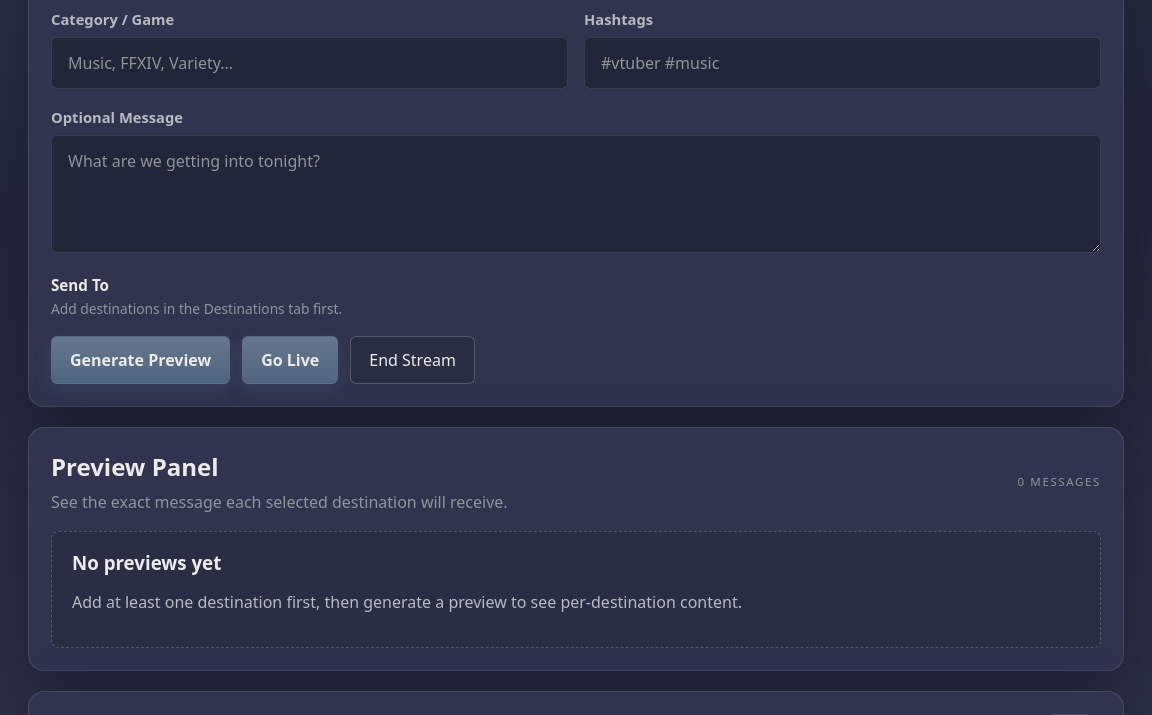
App › shows a preview error when the backend request fails
The width and height of the screenshot is (1152, 715).
(page scrolled)
Click the button "Generate Preview". click: (141, 360)
box: [51,336,230,384]
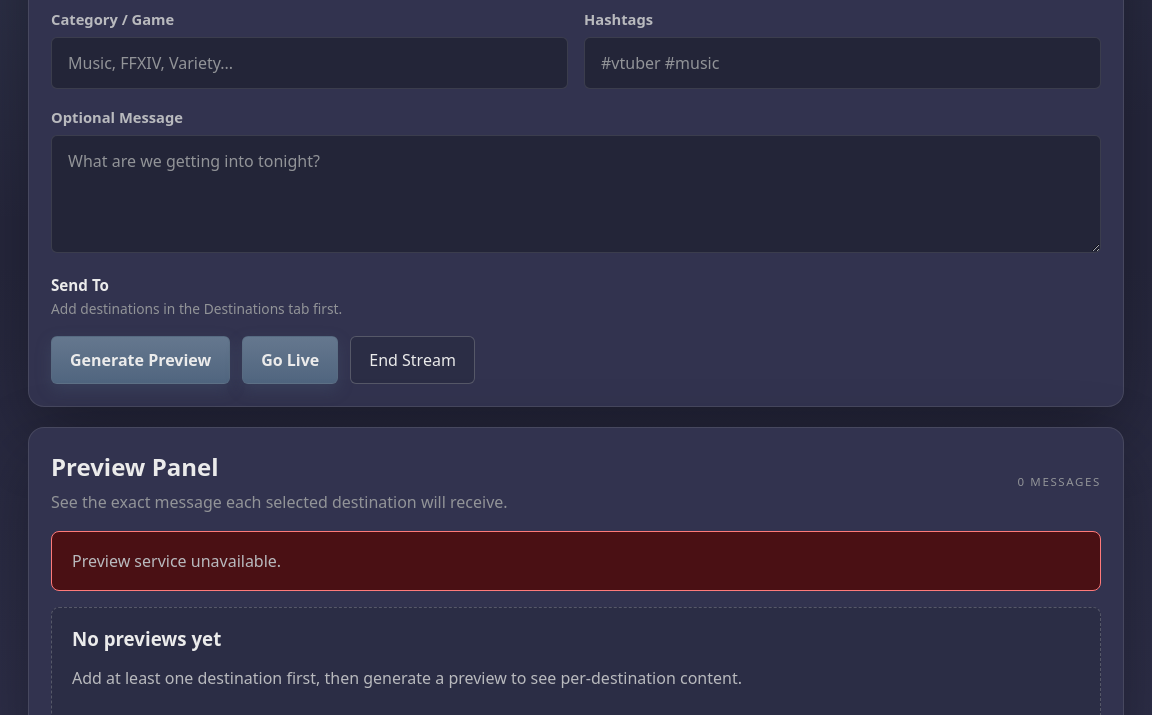
expect the heading "No previews yet" is shown: met, box [72,626,221,651]
expect the text "Preview service unavailable." is shown: met, box [51,531,1101,591]
